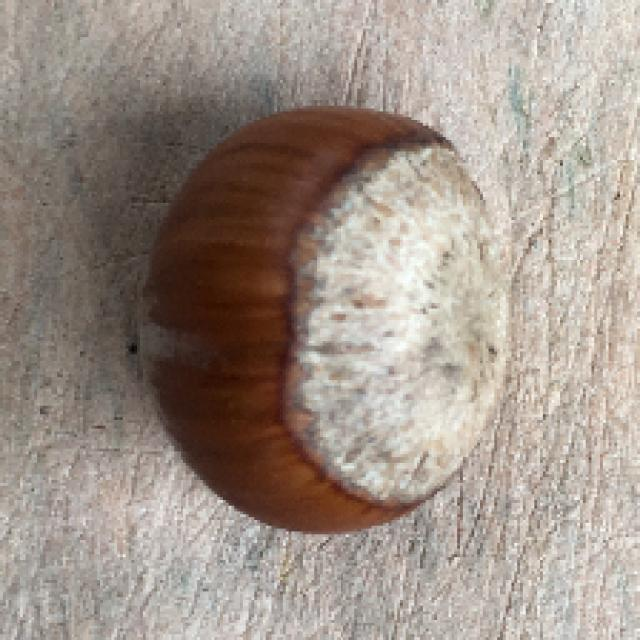qualityHazelnut: (134, 102, 513, 539)
